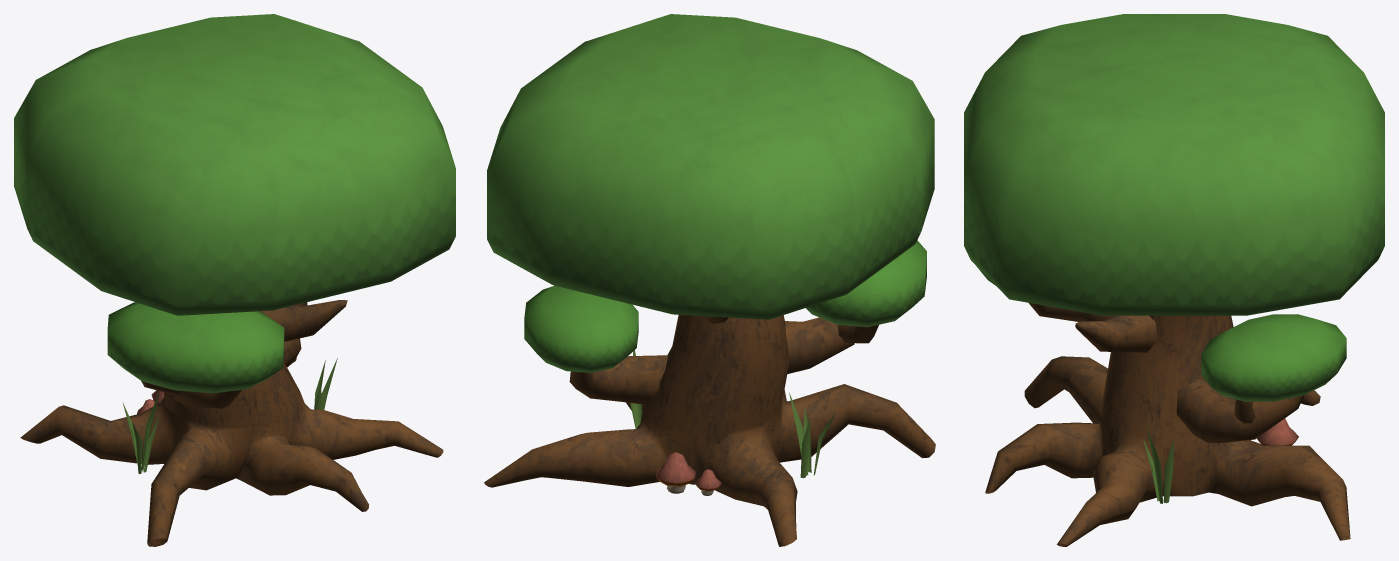
The model's file is Tree_lowpoly.fbx.
3 renders of one model, left to right at view 1: azimuth 30°, elevation 25°; view 2: azimuth 150°, elevation 25°; view 3: azimuth 270°, elevation 25°, orthographic. The views are drawn at different scales.
Visible parts, largest first — view 1: Tree.Lowpoly; view 2: Tree.Lowpoly; view 3: Tree.Lowpoly.
Boxes of the visible parts, left/top/right/bottom form: Tree.Lowpoly: left=14, top=14, right=455, bottom=546; Tree.Lowpoly: left=484, top=14, right=935, bottom=546; Tree.Lowpoly: left=964, top=14, right=1384, bottom=546.
Size of the model in its own units: 97.92 by 105 by 97.92.
